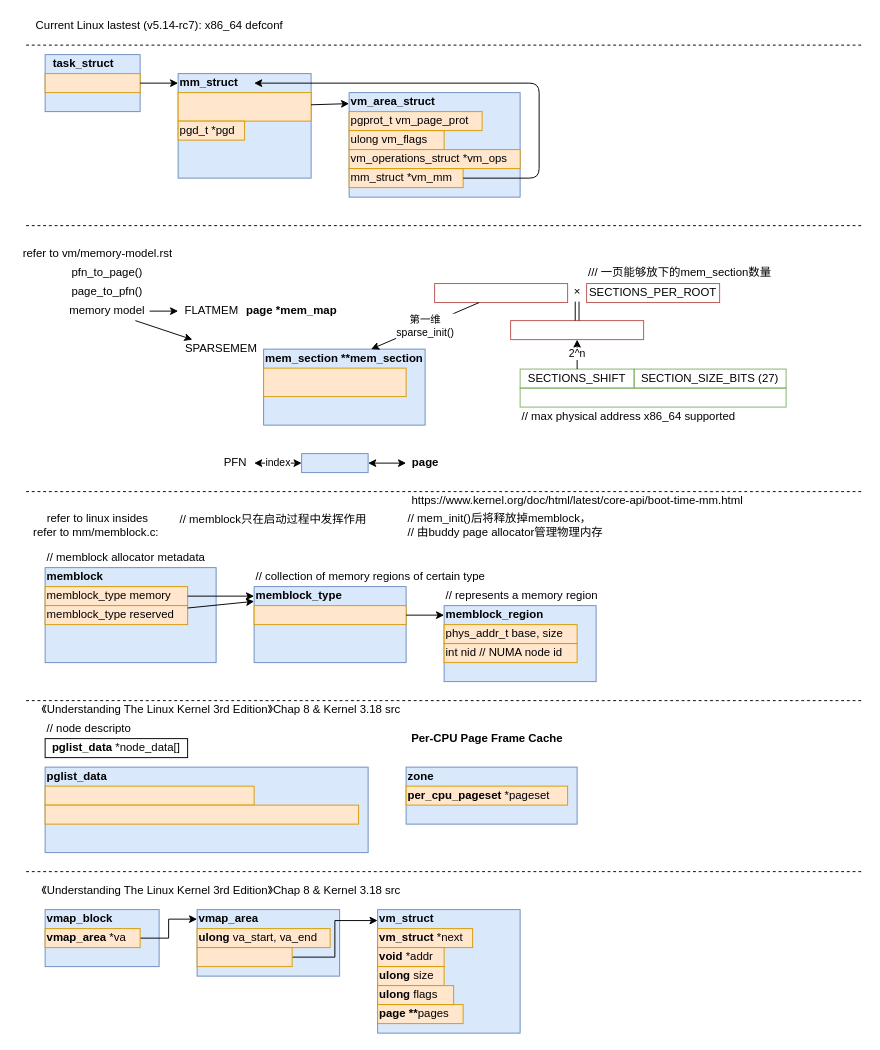
Image size: 880x1050. Some labels were removed from this diagram. Here are the shapes that lost their labels. From the top down, the centre of each, then its label:
At point 92,83: "mm_struct *mm".
At point 244,106: "// list of VMAs vm_area_struct *mmap".
At point 501,293: "NR_SECTION_ROOTS".
At point 577,330: "NR_MEM_SECTIONS".
At point 334,382: "// ptr to array of `page`s ulong section_mem_map".
At point 652,397: "MAX_PHYSMEM_BITS (46 or 52)".
At point 334,463: "vmemmap".
At point 329,615: "memblock_region *regions".
At point 149,795: "zone node_zones[MAX_NR_ZONES]".
At point 201,814: "zonelist node_zonelists[MAX_ZONELISTS] /// 分配时使用".
At point 244,957: "vm_struct *vm".
